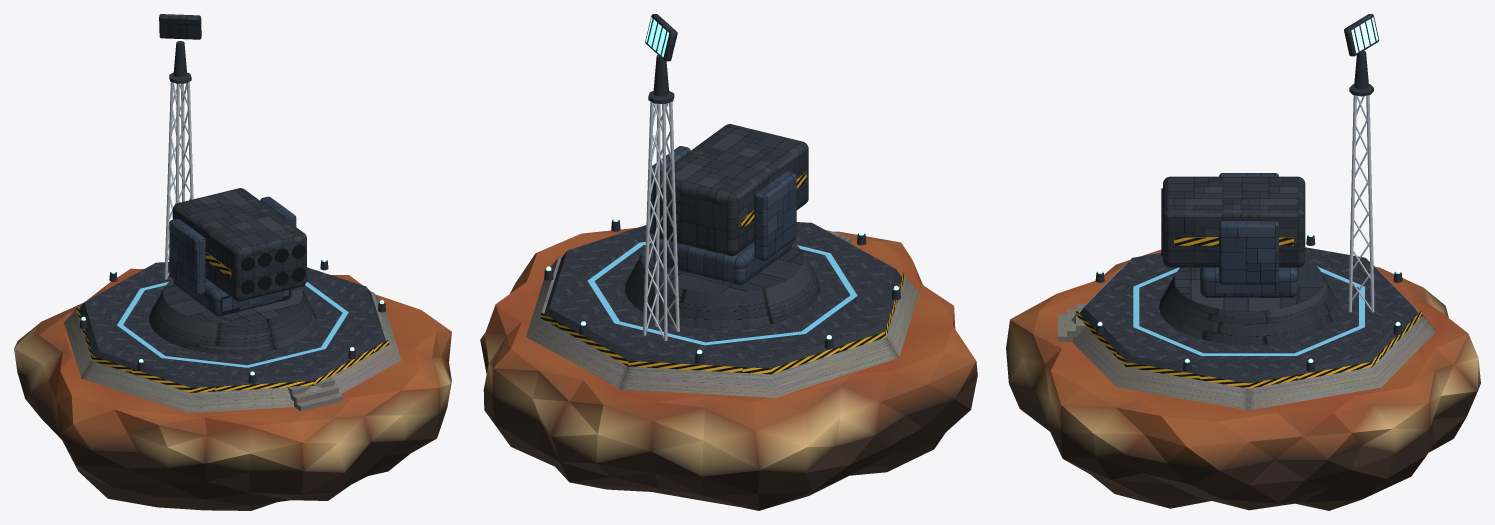
File: swarm-L25.glb
The picture shows the model from 3 angles, left to right: view 1: azimuth 30°, elevation 25°; view 2: azimuth 150°, elevation 25°; view 3: azimuth 270°, elevation 25°; orthographic projection. The views are drawn at different scales.
Visible parts, largest first — view 1: object 1, object 4, anim:pitch, object 25, object 2, anim:yaw, object 3, object 5, anim:rot; view 2: object 1, object 4, anim:pitch, object 2, object 25, anim:yaw, object 3, object 5, anim:rot; view 3: object 1, object 4, anim:pitch, object 25, object 2, anim:yaw, object 3, object 5, anim:rot.
Part boxes in pixels (x1,y1,x2,y2): object 1: (14, 268, 451, 510); object 4: (79, 262, 385, 387); anim:pitch: (172, 188, 306, 301); object 25: (149, 279, 316, 354); object 2: (64, 291, 401, 412); anim:yaw: (169, 196, 296, 316); object 3: (76, 305, 389, 392); object 5: (117, 281, 348, 367); anim:rot: (159, 14, 201, 39); object 1: (480, 227, 977, 510); object 4: (544, 222, 901, 368); anim:pitch: (652, 124, 808, 256); object 2: (526, 256, 918, 398); object 25: (625, 241, 819, 329); anim:yaw: (649, 146, 796, 285); object 3: (540, 272, 904, 374); object 5: (587, 241, 857, 345); anim:rot: (645, 14, 677, 61); object 1: (1006, 249, 1480, 510); object 4: (1079, 247, 1418, 383); anim:pitch: (1161, 176, 1305, 267); object 25: (1159, 259, 1338, 344); object 2: (1071, 263, 1436, 410); anim:yaw: (1200, 173, 1297, 297); object 3: (1075, 311, 1422, 388); object 5: (1133, 266, 1364, 355); anim:rot: (1344, 14, 1379, 56).
Size of the model in its own units: 6.29 by 6.38 by 6.33.
13 materials, 6 textured.
